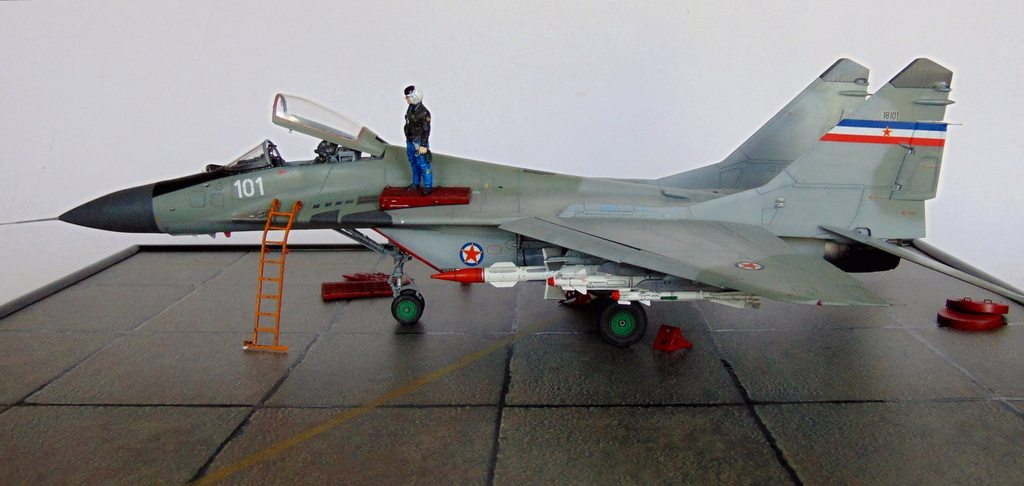Mig-29: (88, 34, 1024, 383)
